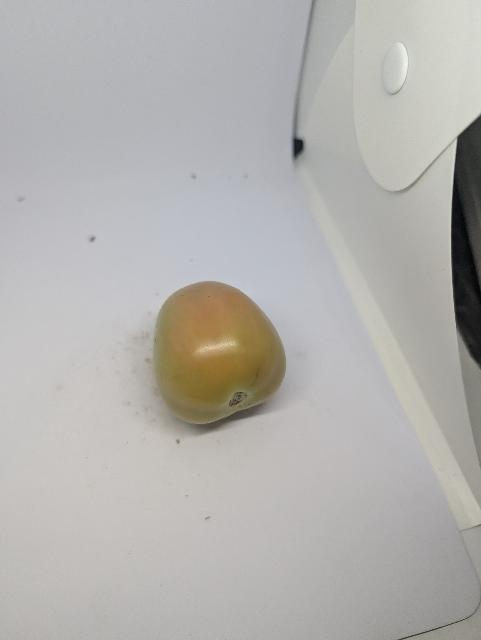breaker: (149, 280, 284, 428)
